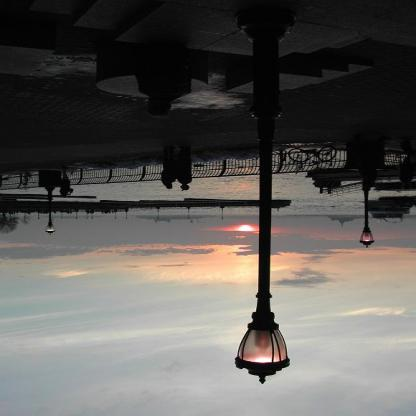Streetlights 1: (225, 3, 311, 389), (351, 180, 384, 252), (38, 190, 64, 240)
